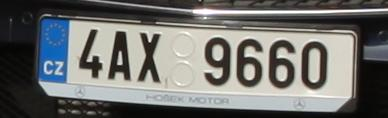0: (302, 41, 327, 90)
4: (78, 30, 103, 78)
6: (268, 40, 295, 88), (236, 39, 262, 87)
9: (204, 37, 230, 84)
A: (109, 31, 131, 81)
X: (138, 33, 161, 83)
